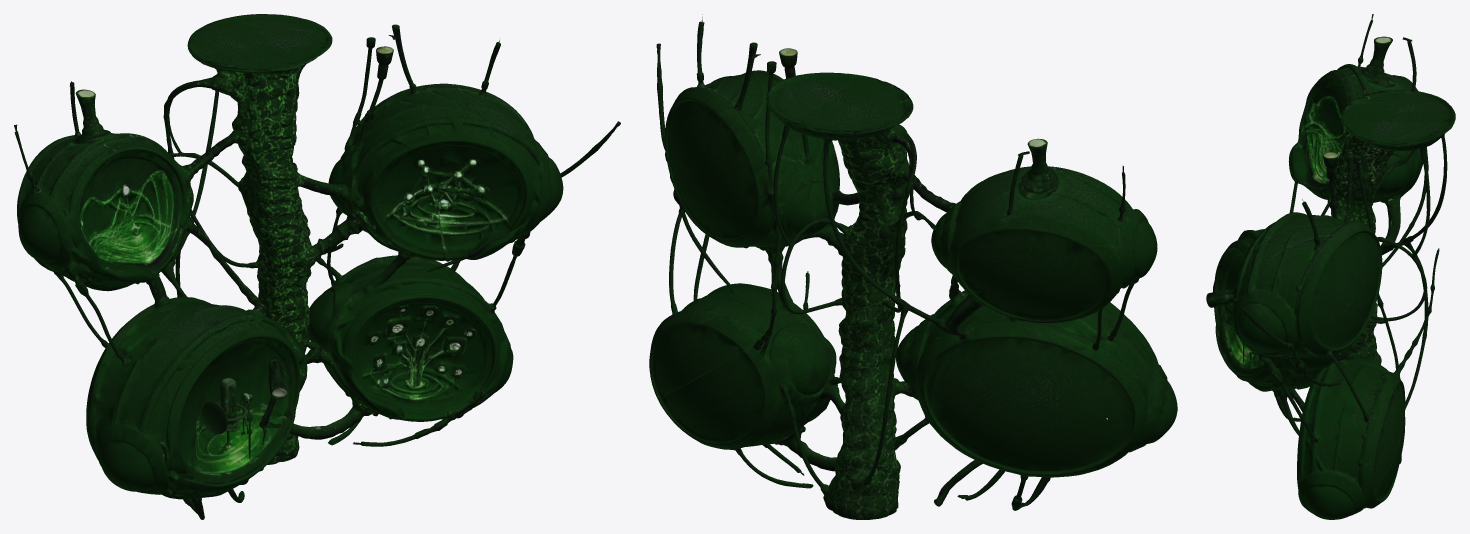
File: holographic-tree.glb
The picture shows the model from 3 angles, left to right: view 1: azimuth 30°, elevation 25°; view 2: azimuth 150°, elevation 25°; view 3: azimuth 270°, elevation 25°; orthographic projection. The views are drawn at different scales.
Parts seen in each view (by area): view 1: tripo_node_888306e7-8a3b-4409-b089-fe0fe8ca32e5; view 2: tripo_node_888306e7-8a3b-4409-b089-fe0fe8ca32e5; view 3: tripo_node_888306e7-8a3b-4409-b089-fe0fe8ca32e5.
Boxes of the visible parts, x1,y1,x2,y2 form: tripo_node_888306e7-8a3b-4409-b089-fe0fe8ca32e5: (14,14,620,519); tripo_node_888306e7-8a3b-4409-b089-fe0fe8ca32e5: (649,14,1177,519); tripo_node_888306e7-8a3b-4409-b089-fe0fe8ca32e5: (1206,14,1455,519).
Size of the model in its own units: 0.98 by 0.7206 by 0.4493.
1 material, 1 textured.
